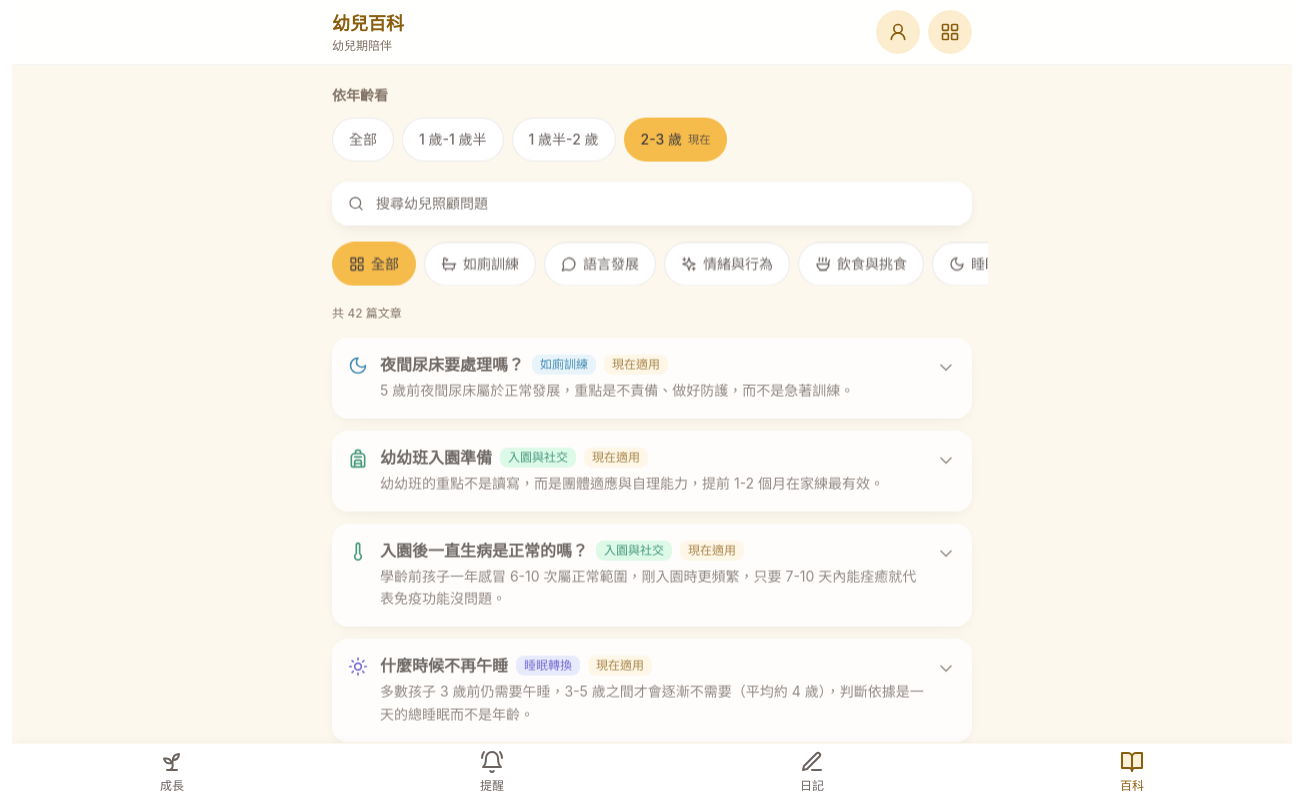
Test: ToddlerWikiPage › 搜尋與分類為 AND 關係
Click the button "如廁訓練" at (480, 264), box top-left (424, 242), bottom-right (536, 286)
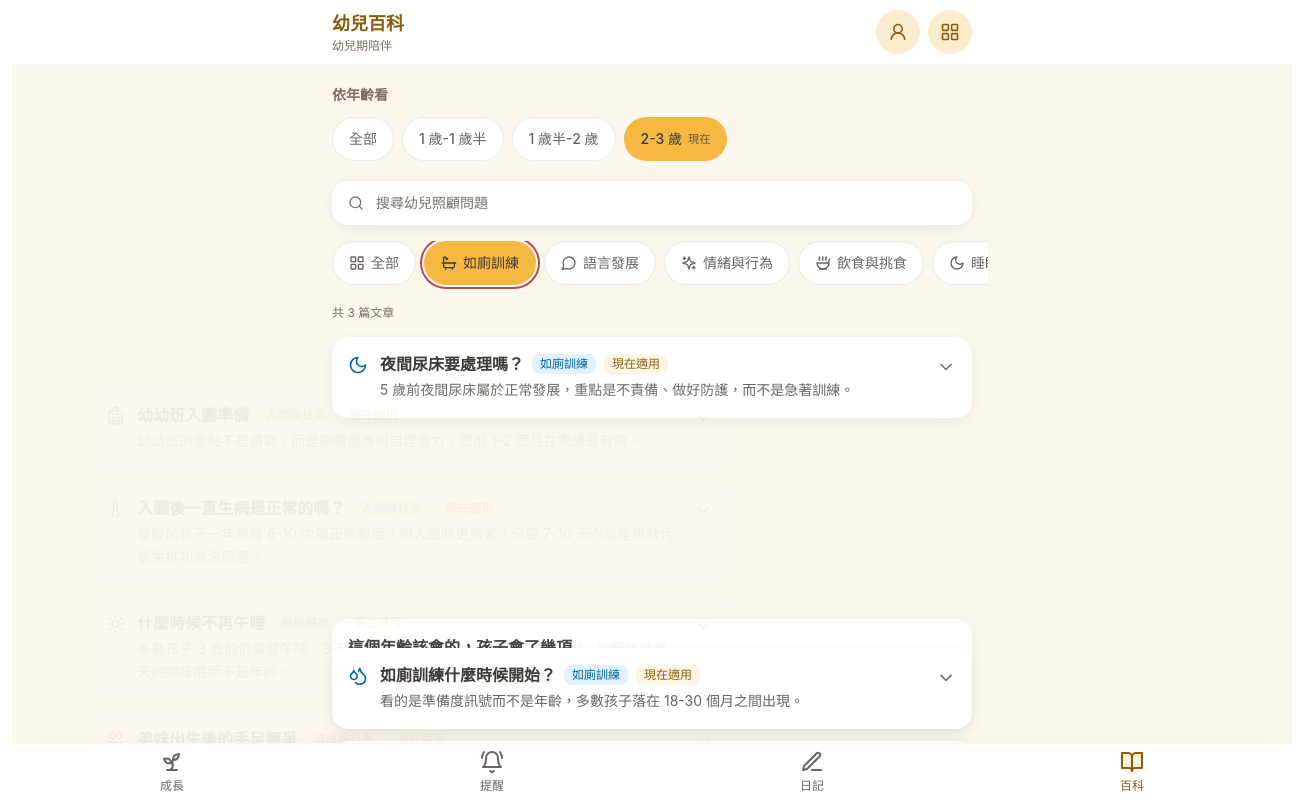
expect the heading "夜間尿床要處理嗎？" is shown: met, box top-left (380, 353), bottom-right (524, 375)
Type "zzzz-不可能命中的字串" into the search field at (652, 203), box top-left (332, 181), bottom-right (972, 225)
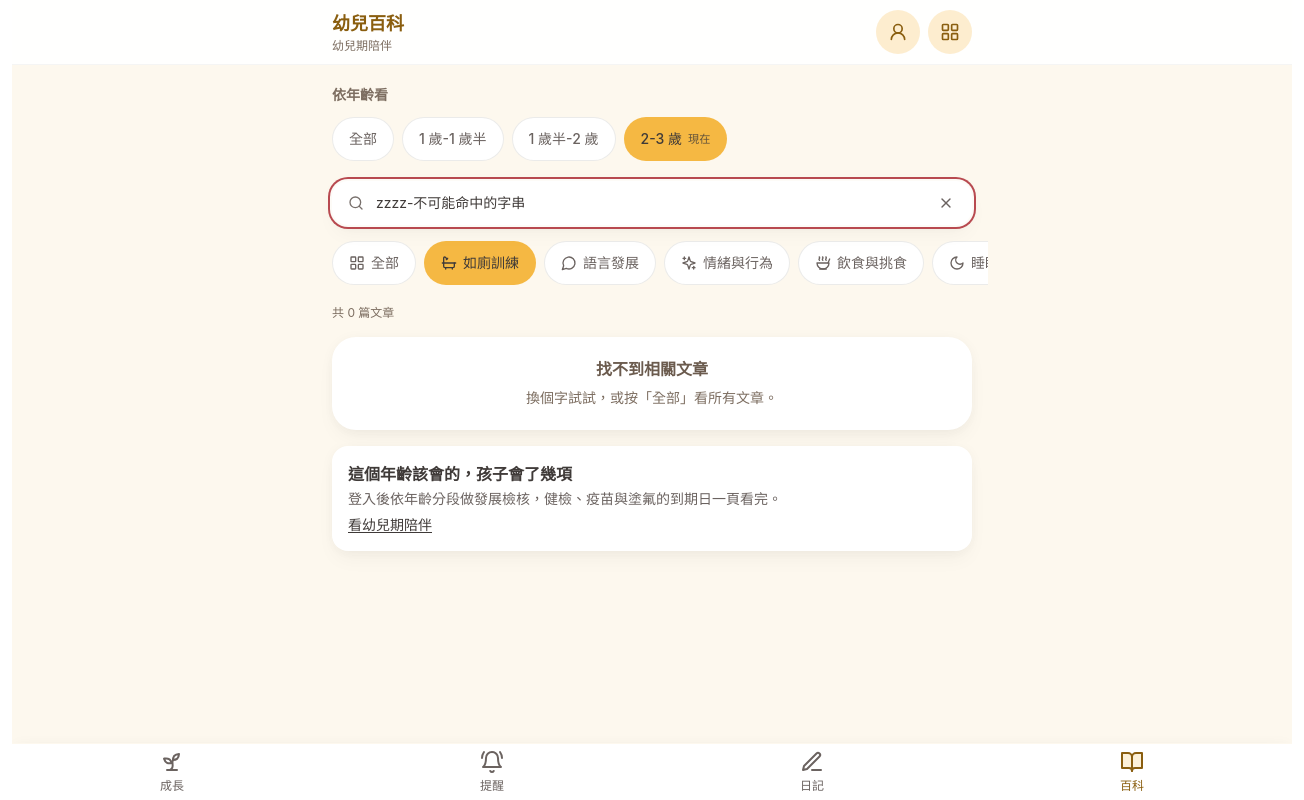
expect the heading "找不到相關文章" is shown: met, box top-left (596, 359), bottom-right (708, 379)
